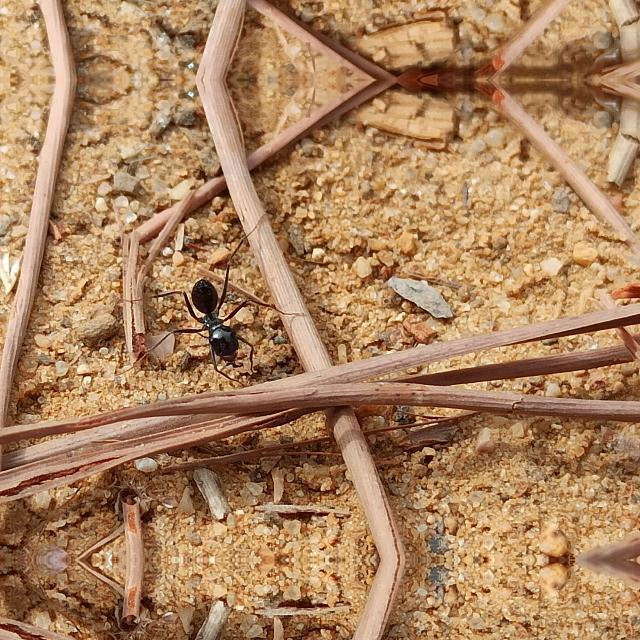Cataglyphis: (167, 268, 263, 368)
